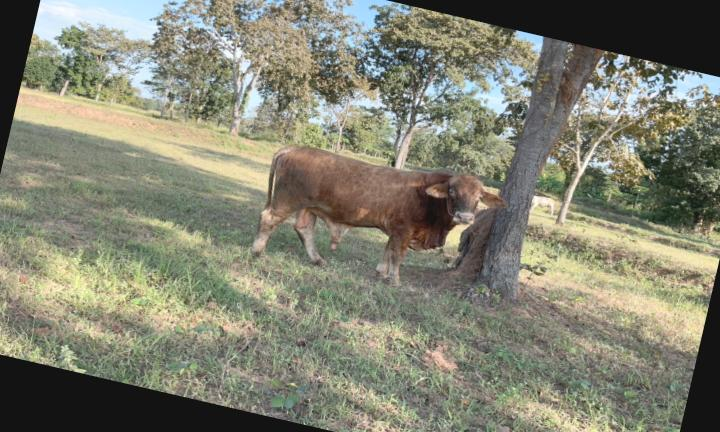Charolais: (252, 145, 507, 284)
